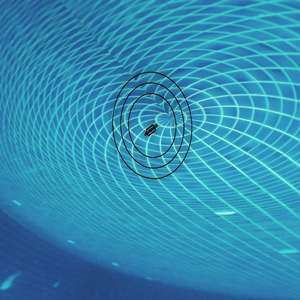circle: (101, 65, 212, 184)
submarine: (145, 124, 153, 135)
